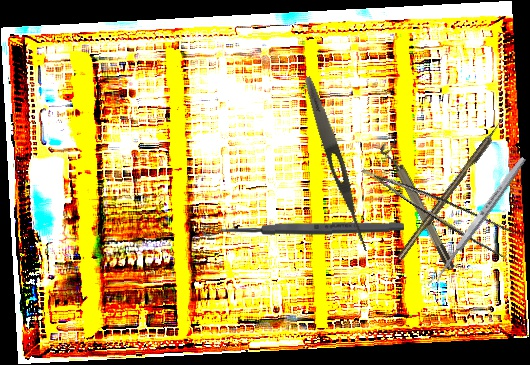Dressing Forceps: (299, 74, 375, 254)
Fixation Ring: (377, 138, 458, 275)
Hook Surgical: (396, 116, 508, 261)
Surgical Spoon: (426, 155, 528, 290), (202, 220, 405, 237)
Tissue Forceps: (361, 144, 523, 266)
